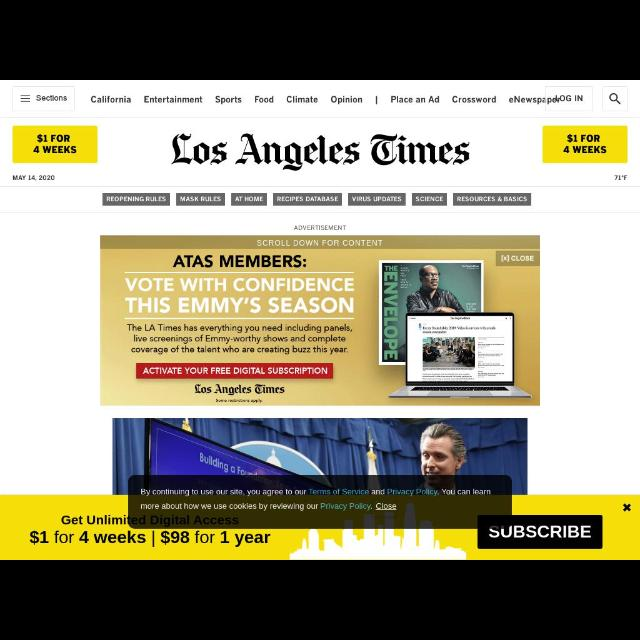button: (603, 87, 627, 111)
icon: (610, 94, 620, 105), (20, 96, 30, 102)
iframe: (100, 236, 540, 406), (1, 495, 640, 559)
image: (113, 418, 527, 494)
text: (172, 133, 470, 171), (142, 489, 490, 497), (141, 503, 397, 511), (145, 96, 203, 104), (457, 196, 527, 202), (509, 96, 559, 104), (391, 96, 439, 104), (106, 196, 166, 202), (278, 196, 338, 202), (452, 96, 496, 104), (34, 146, 76, 154), (564, 146, 606, 154), (91, 96, 131, 104), (352, 196, 402, 202), (38, 134, 70, 142), (568, 134, 600, 142), (287, 96, 317, 104), (332, 96, 362, 104), (14, 175, 54, 181), (181, 196, 221, 202), (215, 96, 241, 104), (294, 226, 346, 230), (38, 95, 66, 101), (235, 196, 263, 202), (416, 196, 444, 202), (556, 95, 582, 101), (255, 96, 273, 102), (615, 176, 627, 180)
textbutton: (543, 126, 627, 164), (13, 126, 96, 164), (13, 86, 75, 112), (546, 87, 594, 111), (454, 193, 530, 205), (102, 194, 170, 206), (273, 193, 341, 205), (348, 194, 406, 206), (177, 194, 225, 206), (232, 194, 266, 206), (412, 194, 446, 206)
toolbar: (1, 80, 640, 186)
